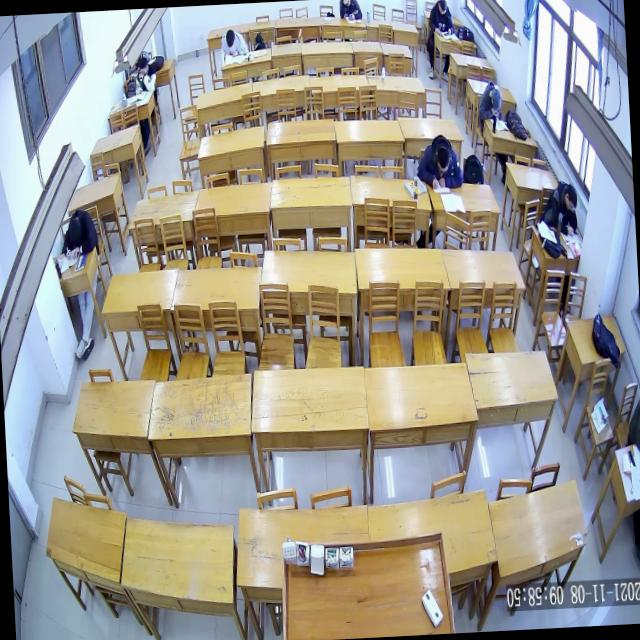bow: (415, 134, 464, 190), (59, 209, 99, 260), (220, 28, 248, 58)
down: (564, 184, 578, 212), (436, 146, 450, 174), (68, 218, 82, 244), (490, 88, 502, 110), (225, 29, 236, 49), (139, 57, 148, 76), (438, 0, 447, 15)
sit: (544, 180, 579, 237), (477, 80, 503, 121), (428, 0, 455, 36), (134, 56, 158, 96)
